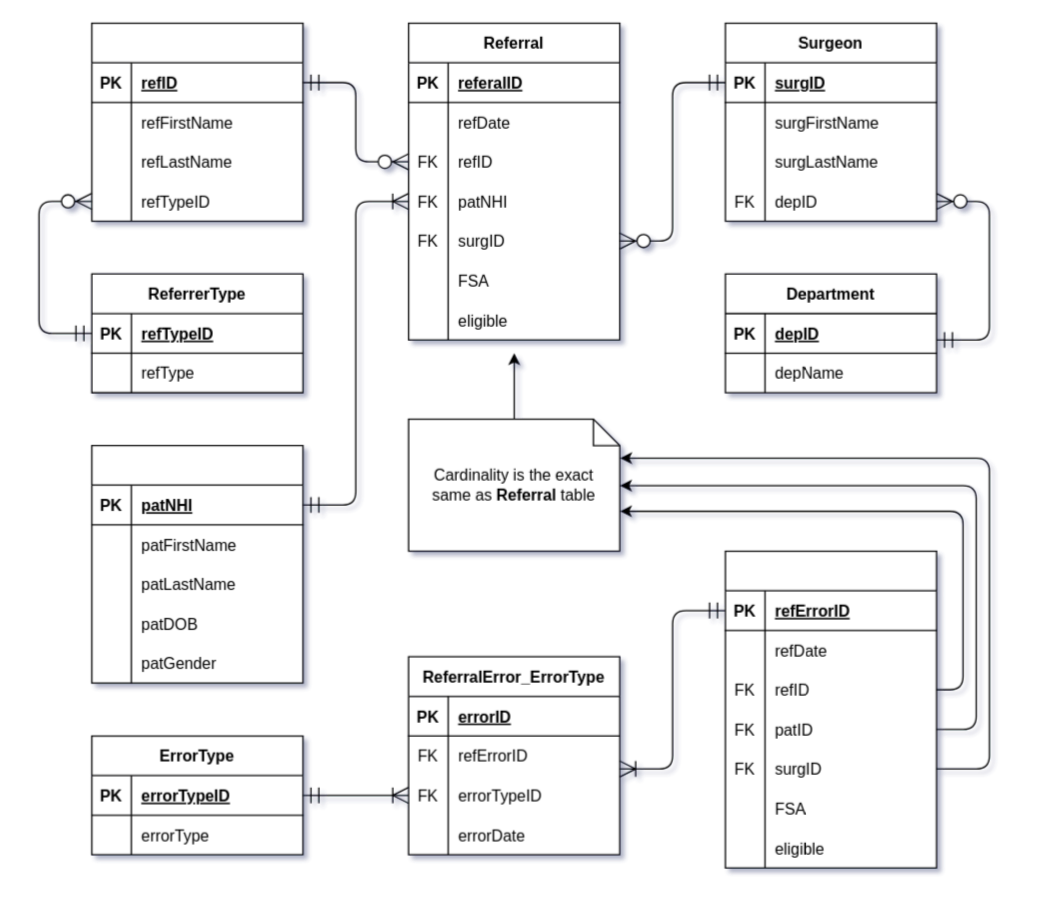
This 1038x899 diagram has some shape labels left out. The box of each missing label's shape, as (x1, y1, x2, y2) in pixels:
Patient: (90, 444, 303, 683)
ReferralError: (724, 550, 937, 868)
Referrer: (90, 22, 303, 221)
